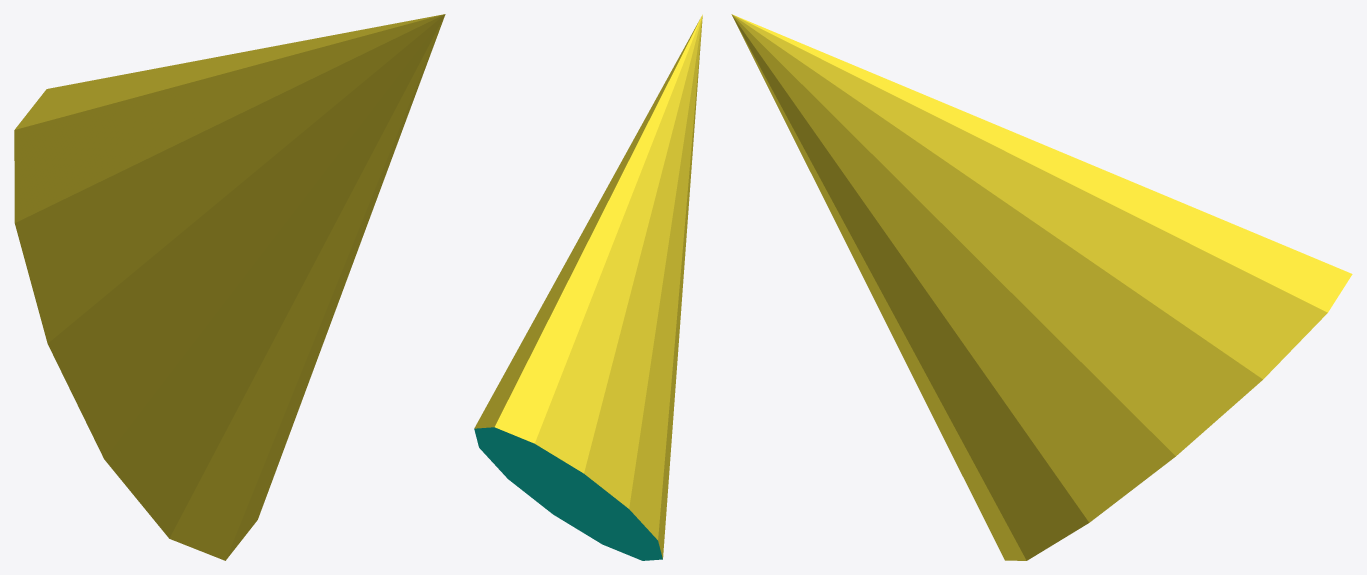
File: n5_n5_group1710164001_lev5.glb
3 renders of one model, left to right at view 1: azimuth 30°, elevation 25°; view 2: azimuth 150°, elevation 25°; view 3: azimuth 270°, elevation 25°, orthographic. The views are drawn at different scales.
Visible parts, largest first — view 1: n5_n5_group1710164001_lev5; view 2: n5_n5_group1710164001_lev5; view 3: n5_n5_group1710164001_lev5.
Boxes of the visible parts, left/top/right/bottom form: n5_n5_group1710164001_lev5: left=14, top=14, right=445, bottom=560; n5_n5_group1710164001_lev5: left=474, top=14, right=702, bottom=560; n5_n5_group1710164001_lev5: left=731, top=14, right=1352, bottom=560.
Bounding box in the file's own units: 0.588 × 2.08 × 2.03.
